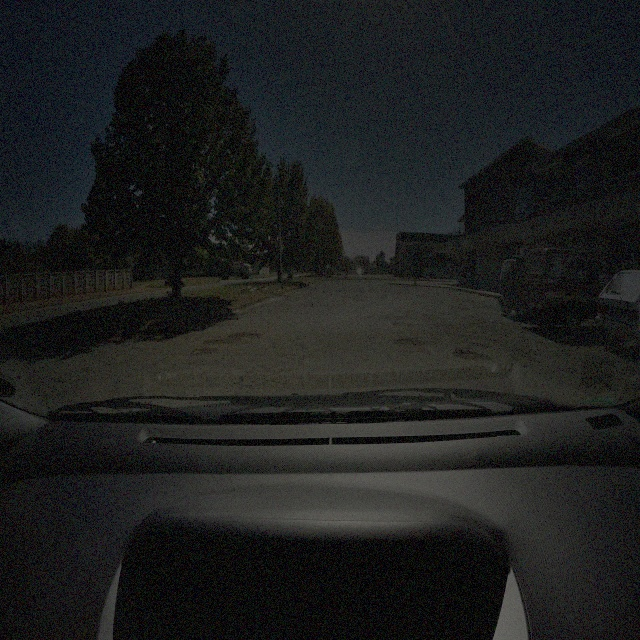pothole: (580, 371, 610, 392), (452, 348, 491, 362), (394, 334, 437, 345), (229, 331, 261, 338), (391, 318, 412, 328), (190, 348, 216, 356), (203, 338, 230, 345), (491, 346, 500, 348)
